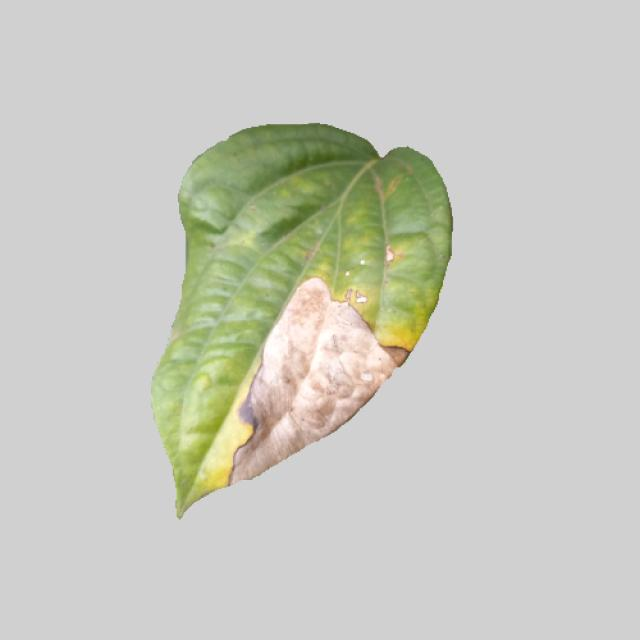leaf-blight: (140, 124, 456, 515)
